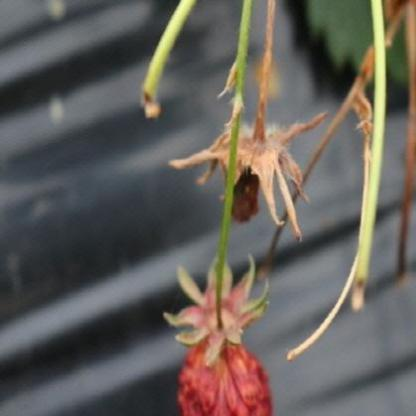Strawberry_Gray_Mold: (169, 111, 326, 242)
